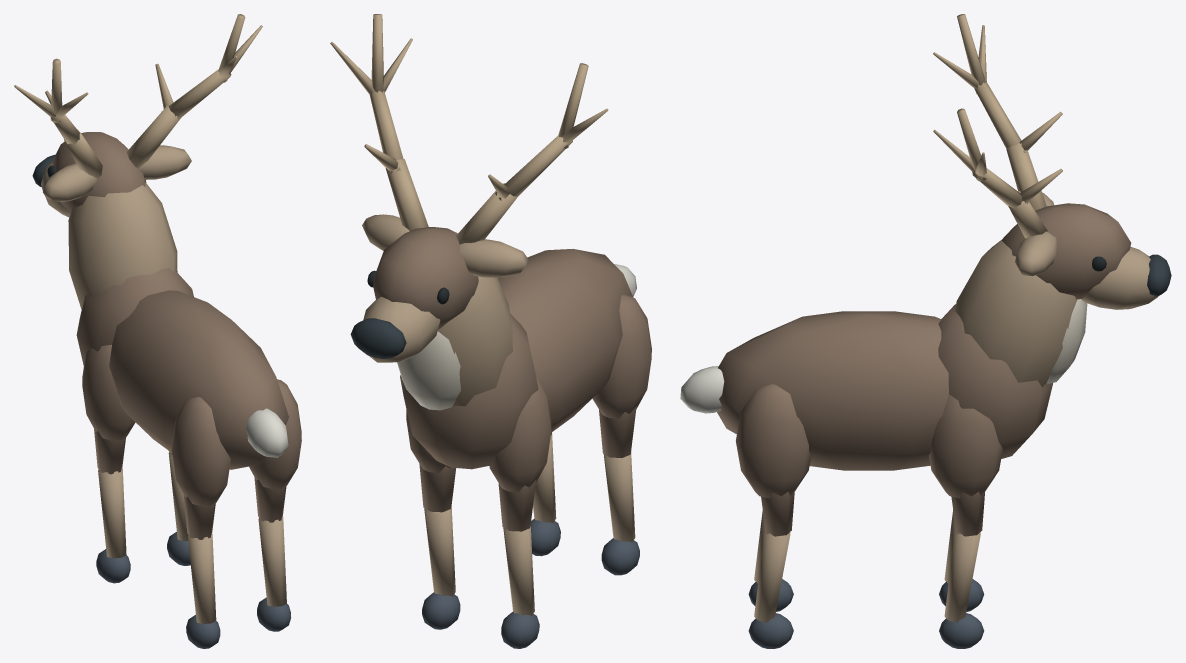
Rendered from reindeer-medium.glb.
3 views of the same model, side by side, from view 1: azimuth 30°, elevation 25°; view 2: azimuth 150°, elevation 25°; view 3: azimuth 270°, elevation 25° (orthographic). The views are drawn at different scales.
Parts seen in each view (by area): view 1: reindeer-medium; view 2: reindeer-medium; view 3: reindeer-medium.
Part boxes in pixels (<box>): reindeer-medium: <box>14,14,301,648</box>; reindeer-medium: <box>330,14,651,648</box>; reindeer-medium: <box>680,14,1171,648</box>.
Size of the model in its own units: 1.17 by 2.4 by 1.88.
